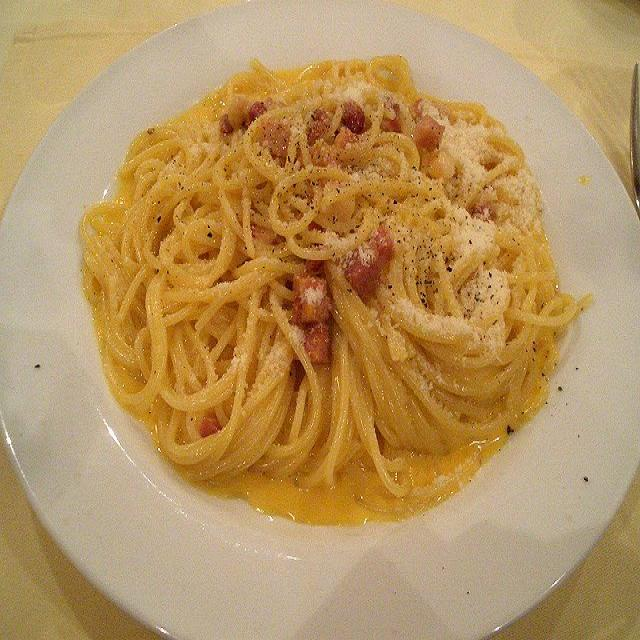Pasta: (83, 72, 563, 480)
